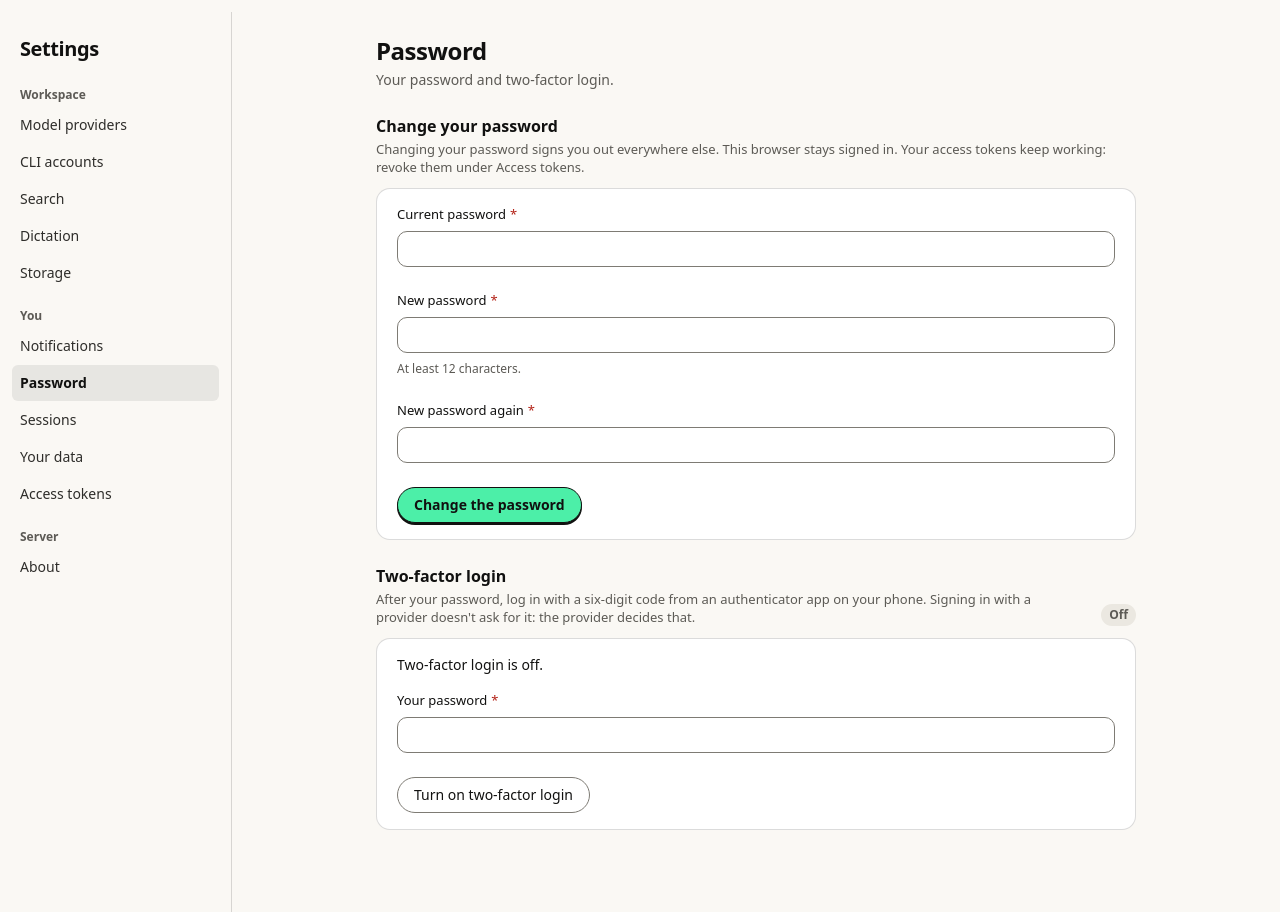
it: cancelling the enrolment forgets the secret
The image size is (1280, 912).
Check: the text "Two-factor login is off." is shown, box [397,655,543,674]
In the password field labelled "Your password": (756, 735) [397,717,1115,753], type "fake-password-123"
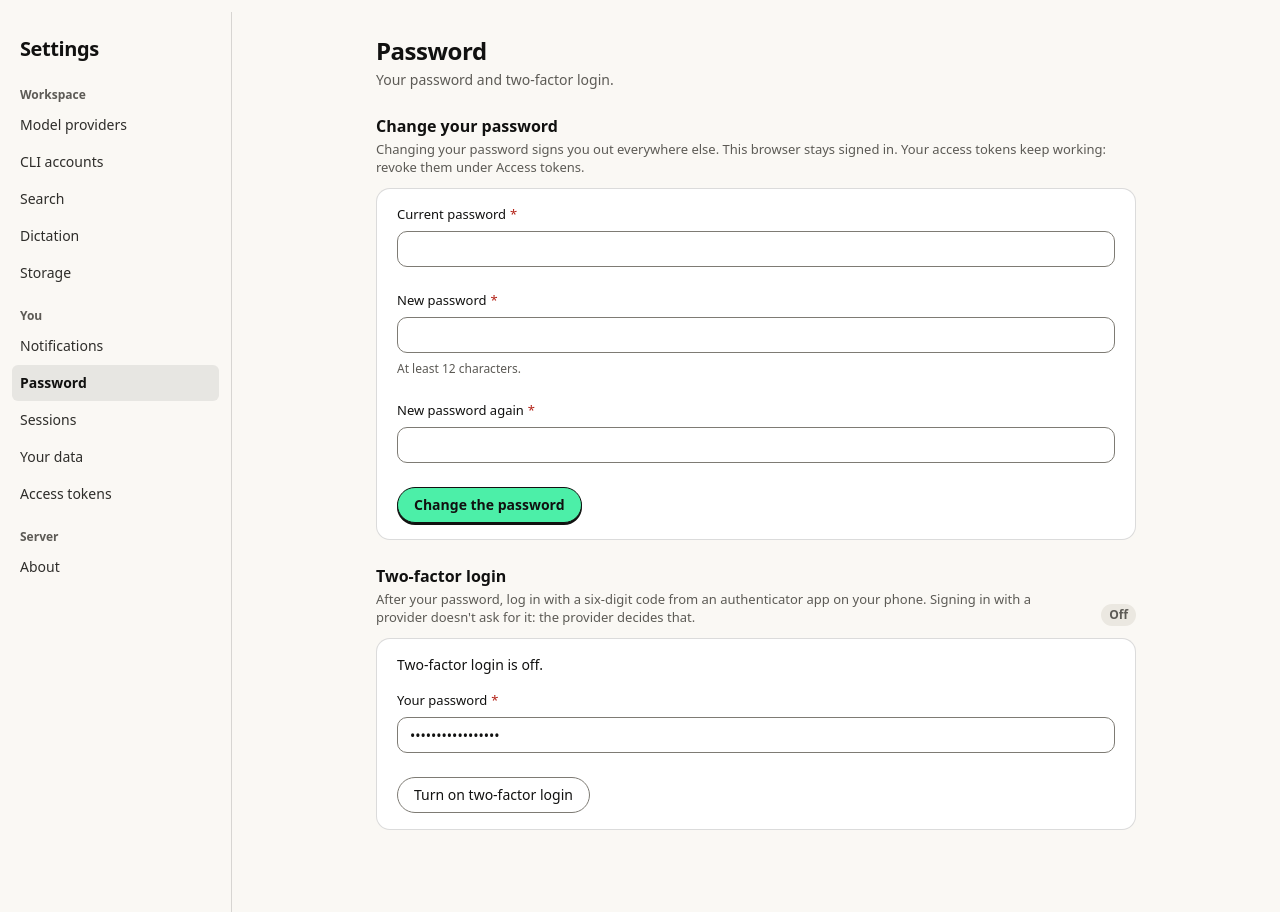
Click the button "Turn on two-factor login": click(493, 795) [397,777,590,813]
(page scrolled)
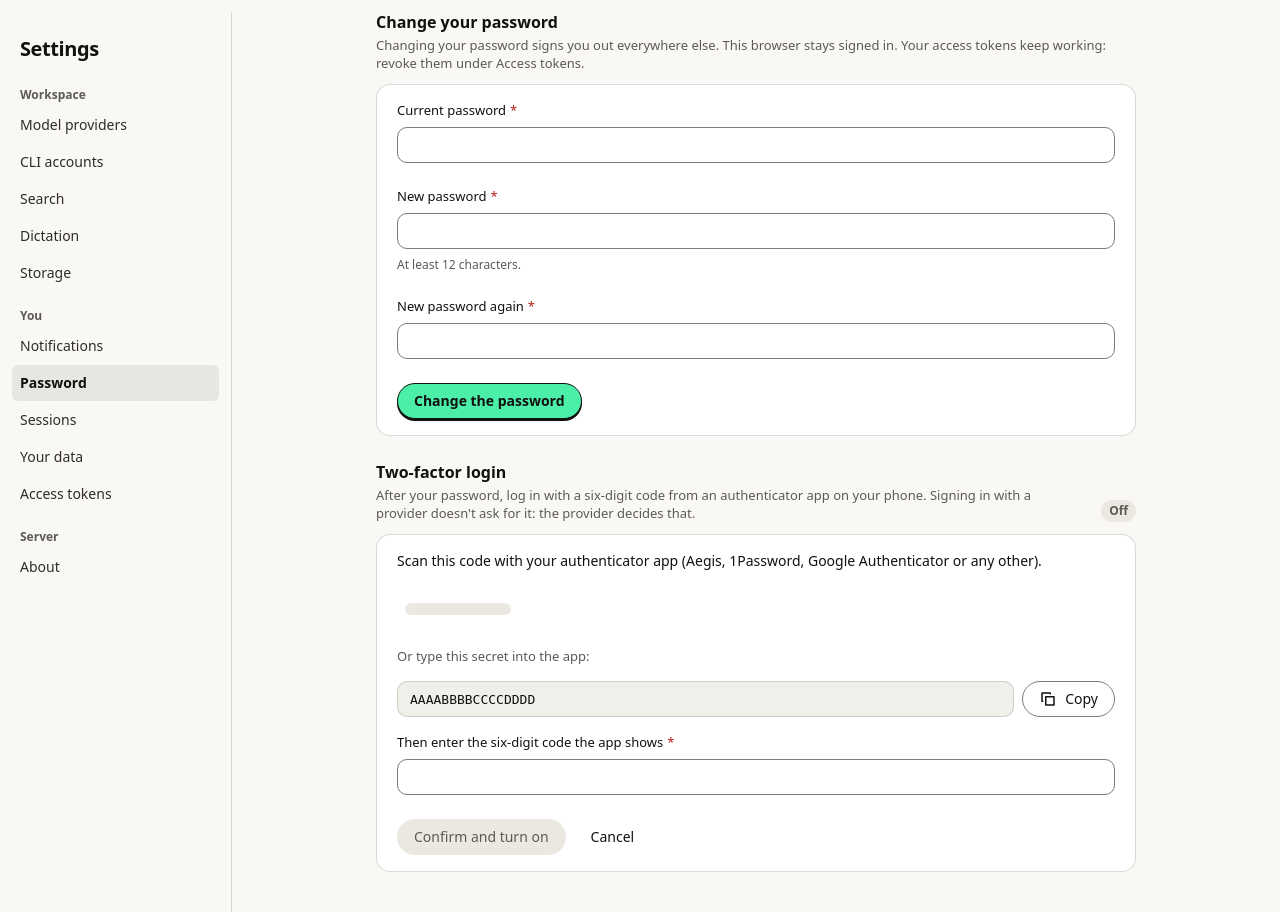
Check: the field named "Secret for the authenticator app" is shown, box [397,681,1014,717]
Click the button "Cancel": click(612, 837) [574,819,651,855]
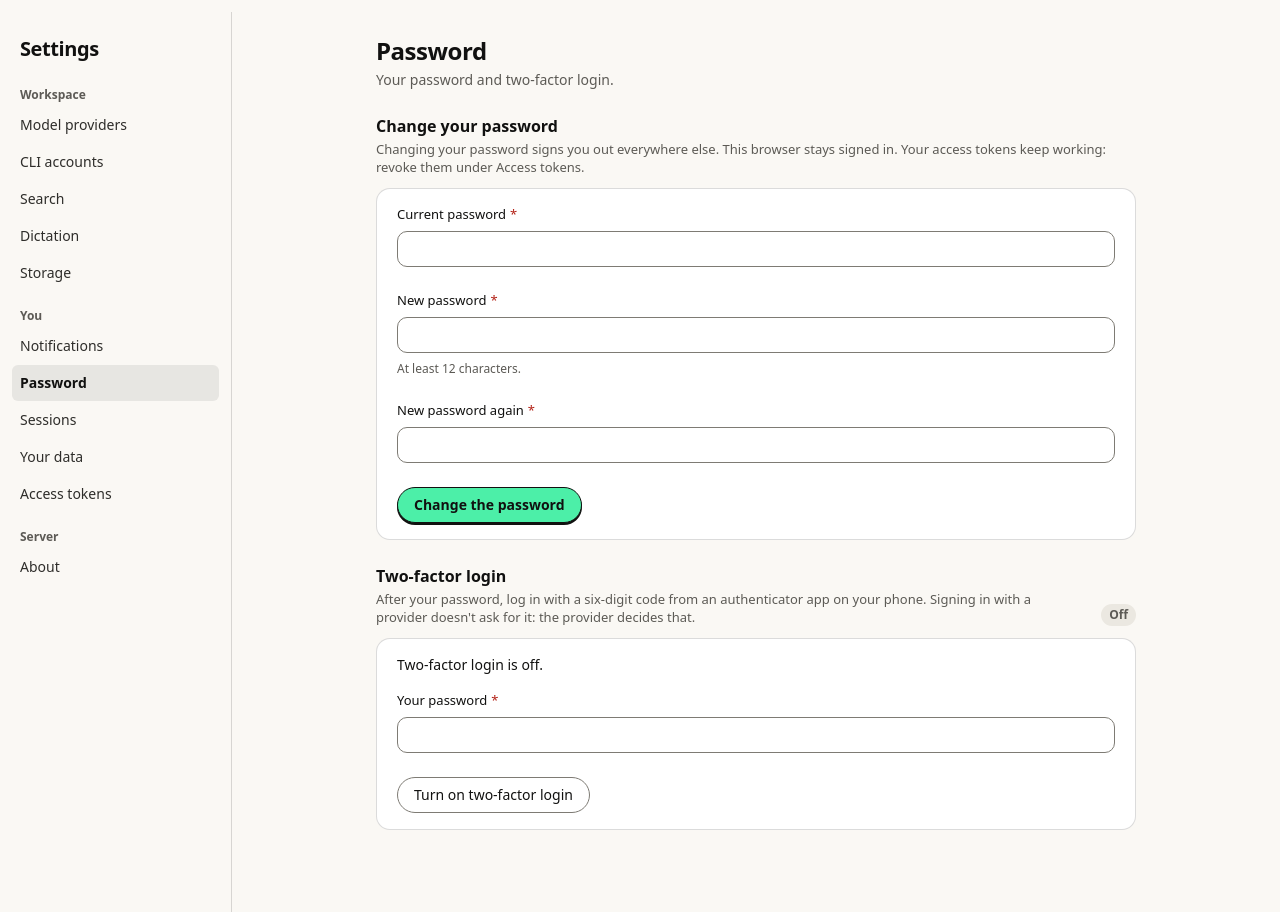
Check: the text "Two-factor login is off." is shown, box [397,655,543,674]
